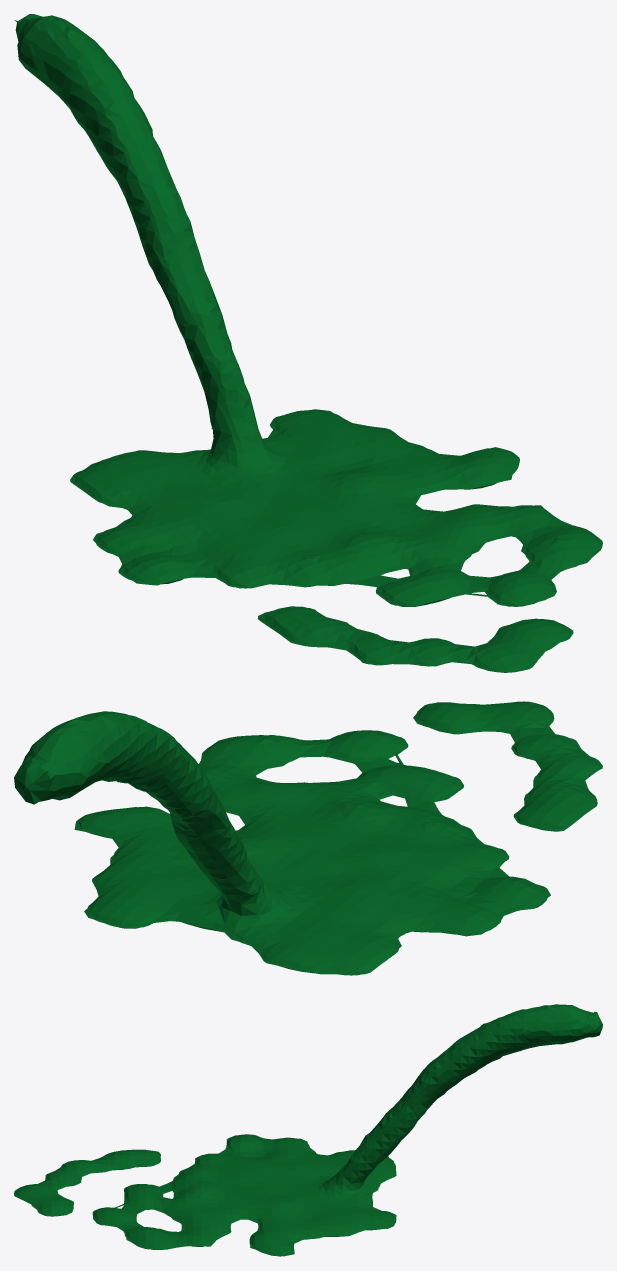
The model's file is fluid_6.fbx.
3 renders of one model, top to bottom at view 1: azimuth 30°, elevation 25°; view 2: azimuth 150°, elevation 25°; view 3: azimuth 270°, elevation 25°, orthographic. The views are drawn at different scales.
Visible parts, largest first — view 1: Cube; view 2: Cube; view 3: Cube.
Part boxes in pixels (bbox=[...]): Cube: bbox=[14, 14, 602, 672]; Cube: bbox=[14, 701, 602, 975]; Cube: bbox=[14, 1004, 602, 1256].
Bounding box in the file's own units: 240 × 176 × 491.
